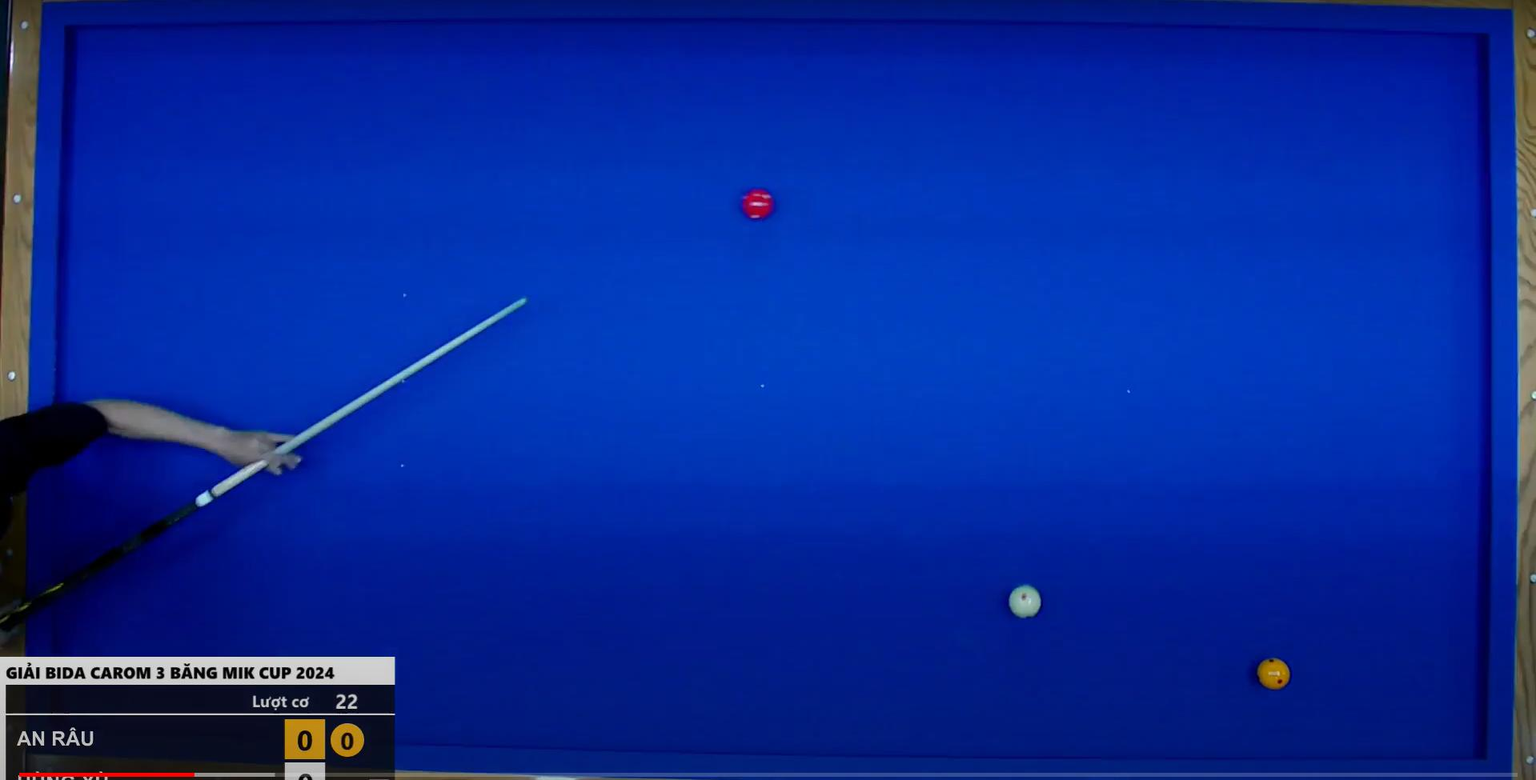red ball: (737, 183, 782, 229)
white ball: (1000, 578, 1052, 627)
yellow ball: (1249, 651, 1298, 699)
